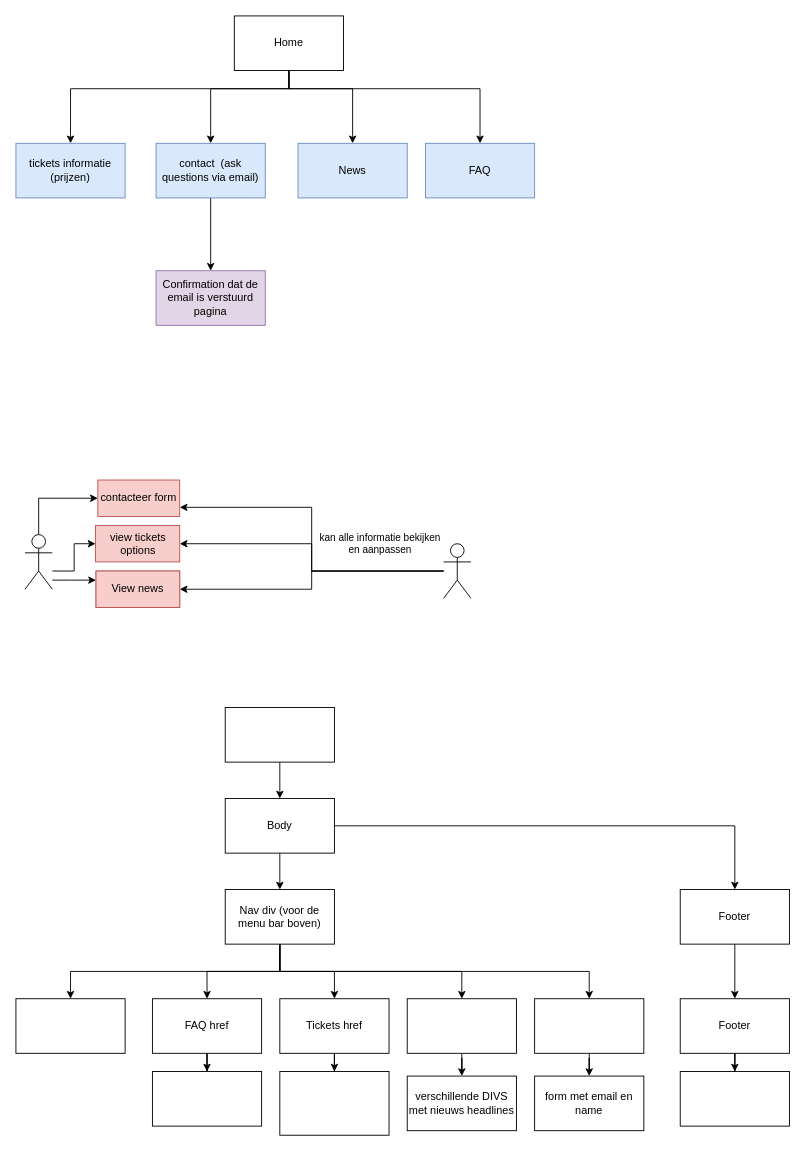
Image size: 805x1152. Some labels were removed from this diagram. The shapes that lost their labels are listed below. From the top down, each one's box as (x1, y1, x2, y2) in pixels, then its label:
(24, 534, 52, 589): user
(443, 543, 471, 598): admin
(224, 707, 334, 762): HTML
(15, 998, 125, 1053): <img logo>
(406, 998, 516, 1053): News href
(534, 998, 644, 1053): Contact href
(152, 1071, 262, 1126): div met de FAQ informatie
(279, 1071, 389, 1135): div met de tickets informatie href naar een ticket koop site
(679, 1071, 789, 1126): socials href
